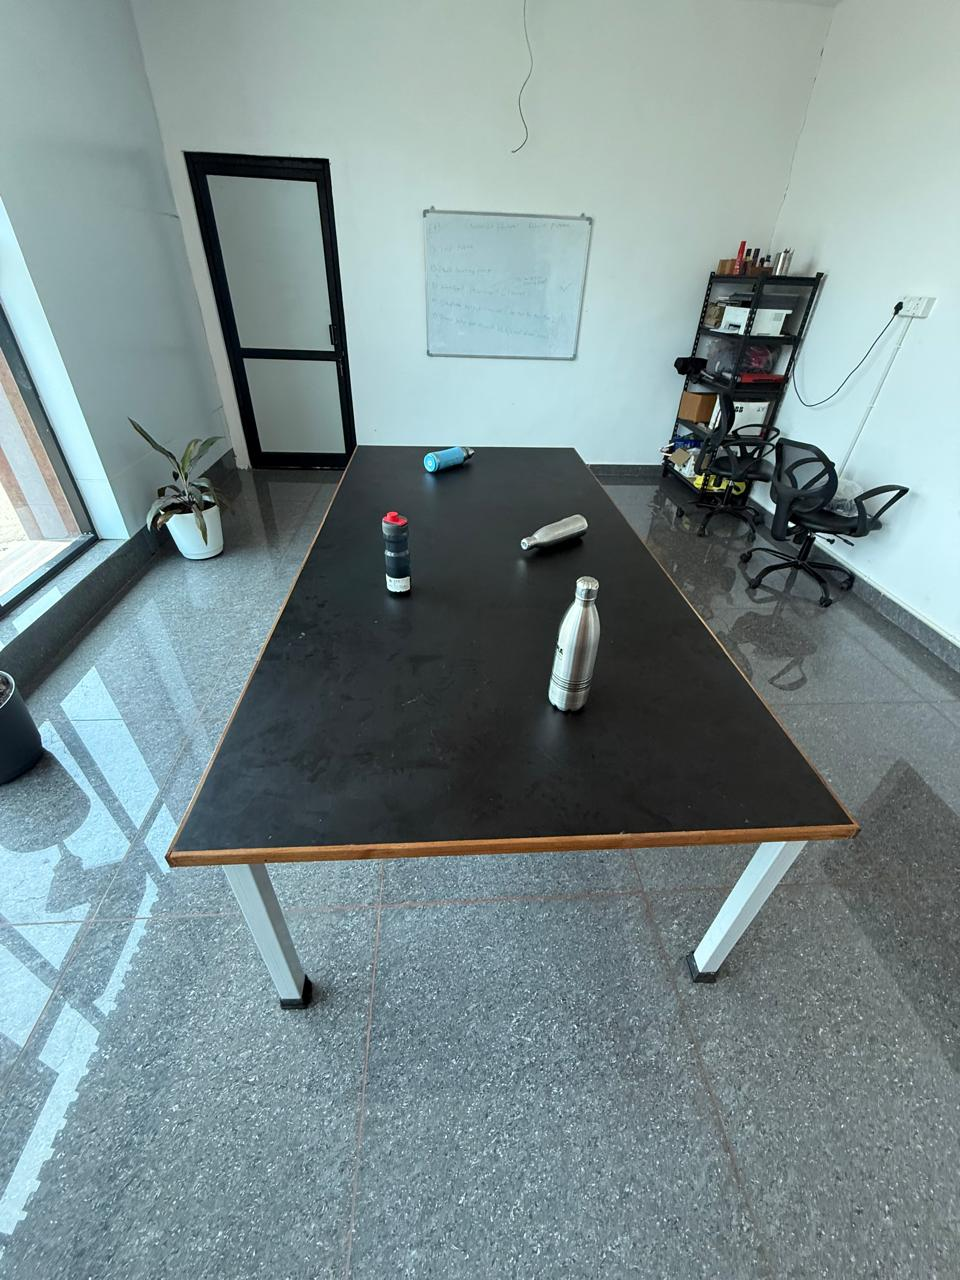bottle_on_table: (544, 553, 640, 723), (355, 506, 436, 610), (518, 496, 603, 575), (403, 431, 486, 476)
